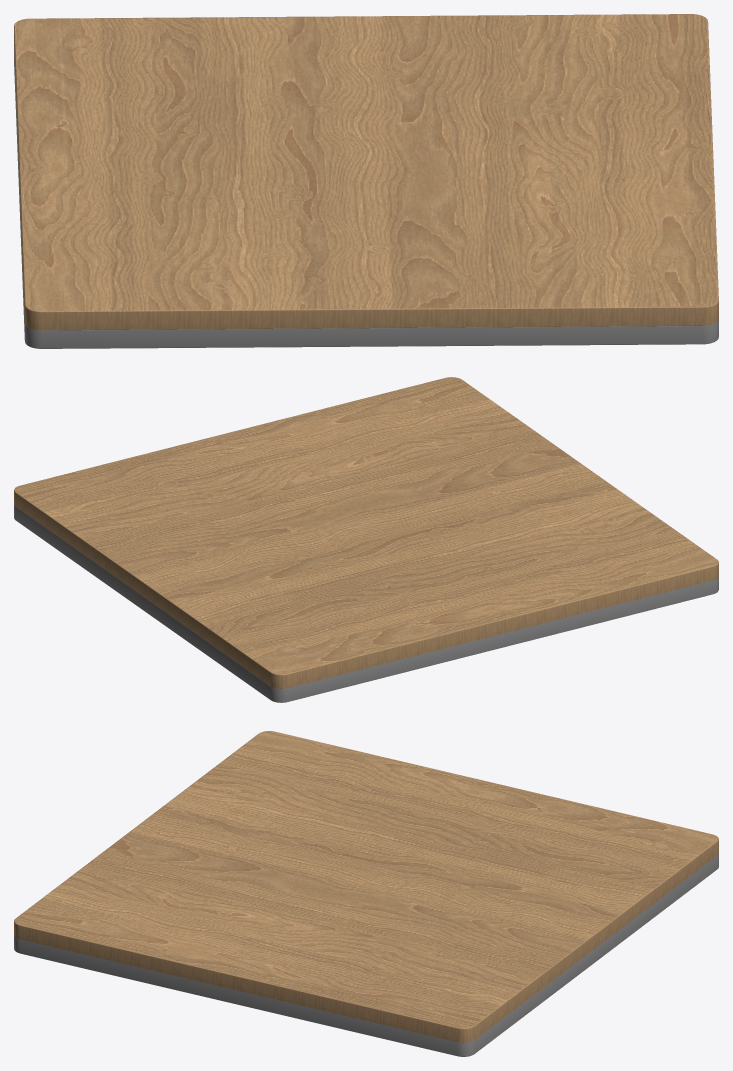
The model's file is Phone_Charger_Model_Table_Only5.glb.
The picture shows the model from 3 angles, top to bottom: view 1: azimuth 30°, elevation 25°; view 2: azimuth 150°, elevation 25°; view 3: azimuth 270°, elevation 25°; orthographic projection. The views are drawn at different scales.
Visible parts, largest first — view 1: Plane.005, Plane.004; view 2: Plane.005, Plane.004; view 3: Plane.005, Plane.004.
Boxes of the visible parts, x1,y1,x2,y2 form: Plane.005: [14, 14, 718, 330]; Plane.004: [14, 48, 718, 348]; Plane.005: [14, 377, 718, 688]; Plane.004: [14, 504, 718, 702]; Plane.005: [14, 731, 718, 1042]; Plane.004: [14, 853, 718, 1056].
Bounding box in the file's own units: 30.12 × 1.34 × 30.12.
2 materials, 1 textured.
